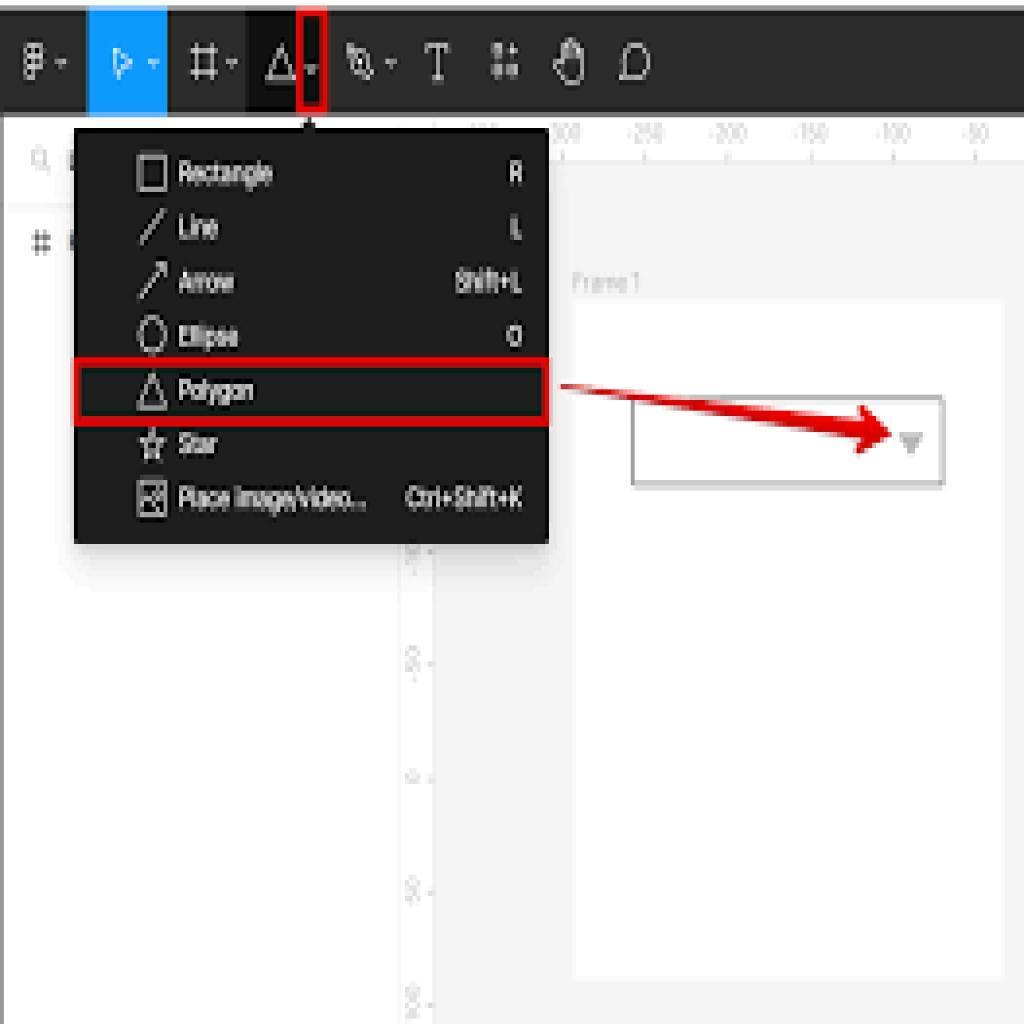dropdown: (1, 13, 91, 117), (325, 8, 405, 117), (248, 5, 325, 118), (91, 6, 169, 115), (170, 11, 244, 117)
icon: (548, 38, 591, 91), (484, 40, 530, 84), (617, 42, 656, 89), (421, 41, 456, 92), (135, 152, 172, 199), (134, 372, 170, 419), (135, 261, 172, 306), (134, 315, 174, 355), (136, 479, 166, 522), (141, 210, 166, 247), (140, 431, 168, 464)
label: (177, 484, 369, 520), (178, 154, 275, 191), (175, 375, 260, 406), (174, 322, 240, 354), (175, 210, 224, 245), (175, 271, 236, 299), (175, 431, 219, 460)
